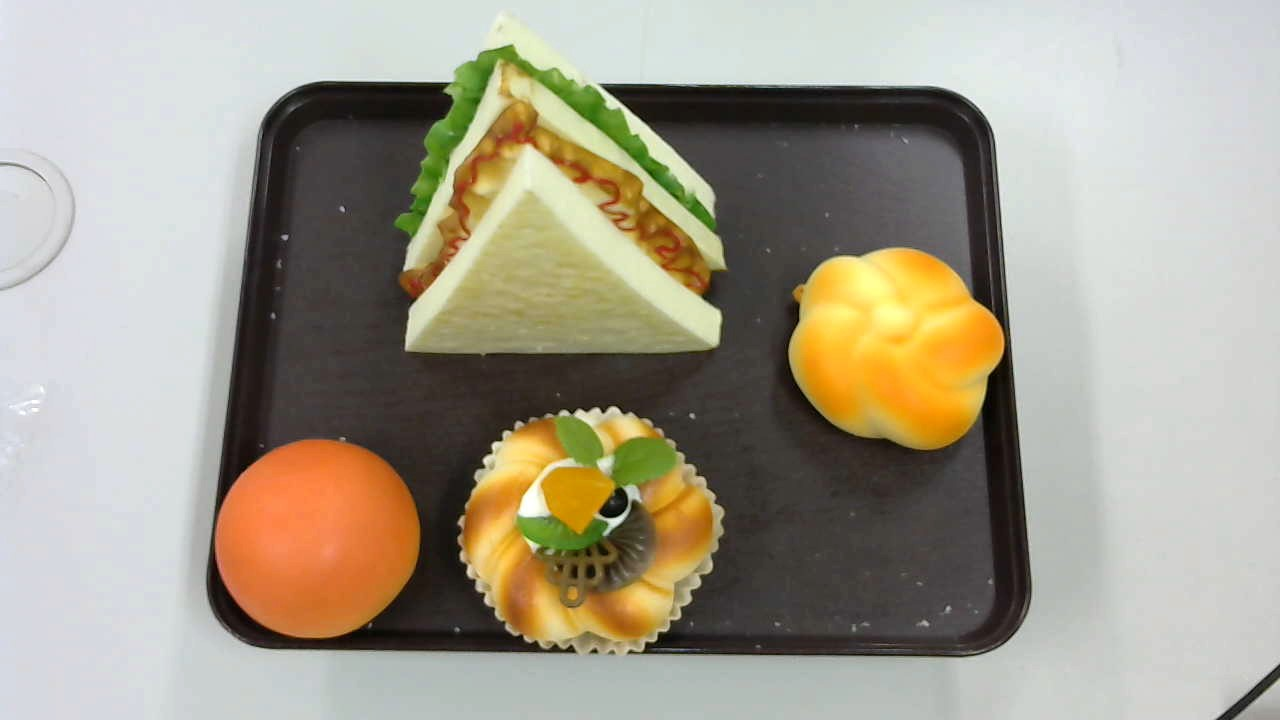bun: (213, 438, 420, 641)
fruit tart: (455, 404, 725, 657)
sandwich: (396, 13, 725, 363)
twist bread: (787, 245, 1006, 450)
